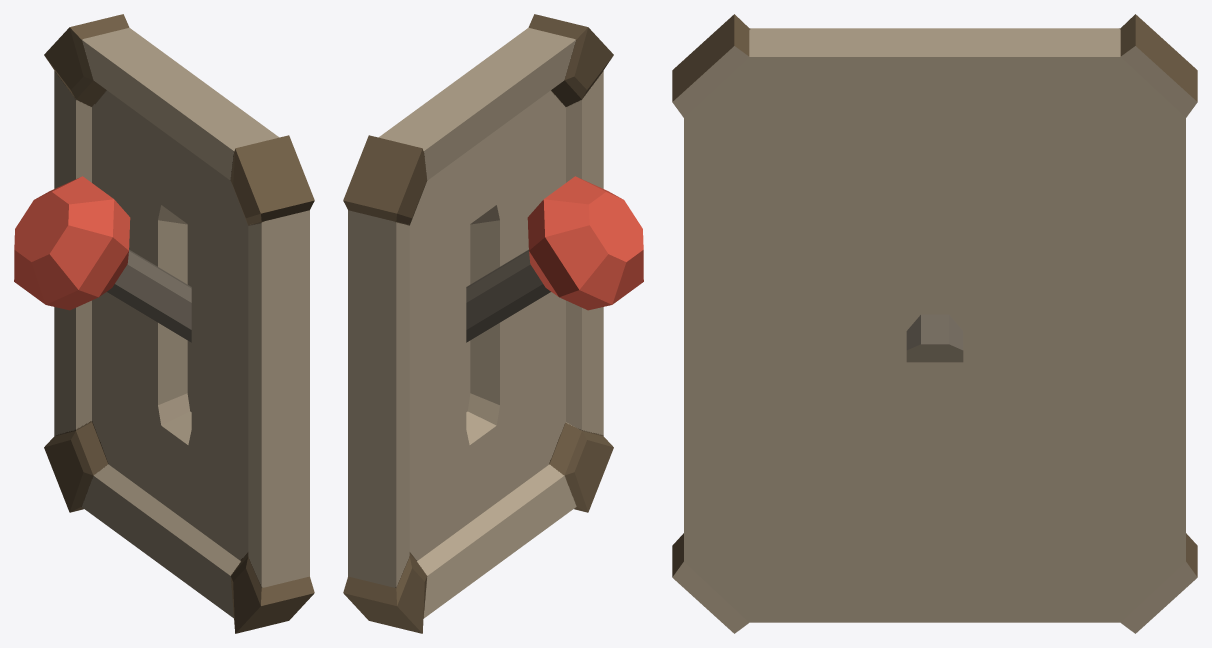
File: lever ON.fbx
The picture shows the model from 3 angles, left to right: view 1: azimuth 30°, elevation 25°; view 2: azimuth 150°, elevation 25°; view 3: azimuth 270°, elevation 25°; orthographic projection. The views are drawn at different scales.
Parts seen in each view (by area): view 1: switch_ONShape; view 2: switch_ONShape; view 3: switch_ONShape.
Part boxes in pixels (x1,y1,x2,y2): switch_ONShape: (14, 14, 314, 633); switch_ONShape: (343, 14, 643, 633); switch_ONShape: (672, 14, 1197, 633).
Size of the model in its own units: 37.27 by 85.75 by 69.44.
